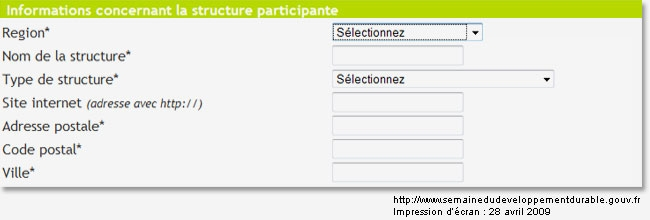_form_: (168, 1, 584, 220), (1, 3, 470, 193)
field: (330, 69, 554, 89), (329, 21, 484, 42), (330, 115, 463, 139), (329, 45, 466, 67), (330, 91, 464, 113), (329, 163, 464, 184), (330, 139, 464, 160)
field_with_label: (2, 66, 556, 90), (2, 41, 469, 69), (3, 113, 465, 140), (1, 160, 466, 186), (2, 88, 466, 114), (3, 19, 487, 43), (3, 138, 466, 161)
